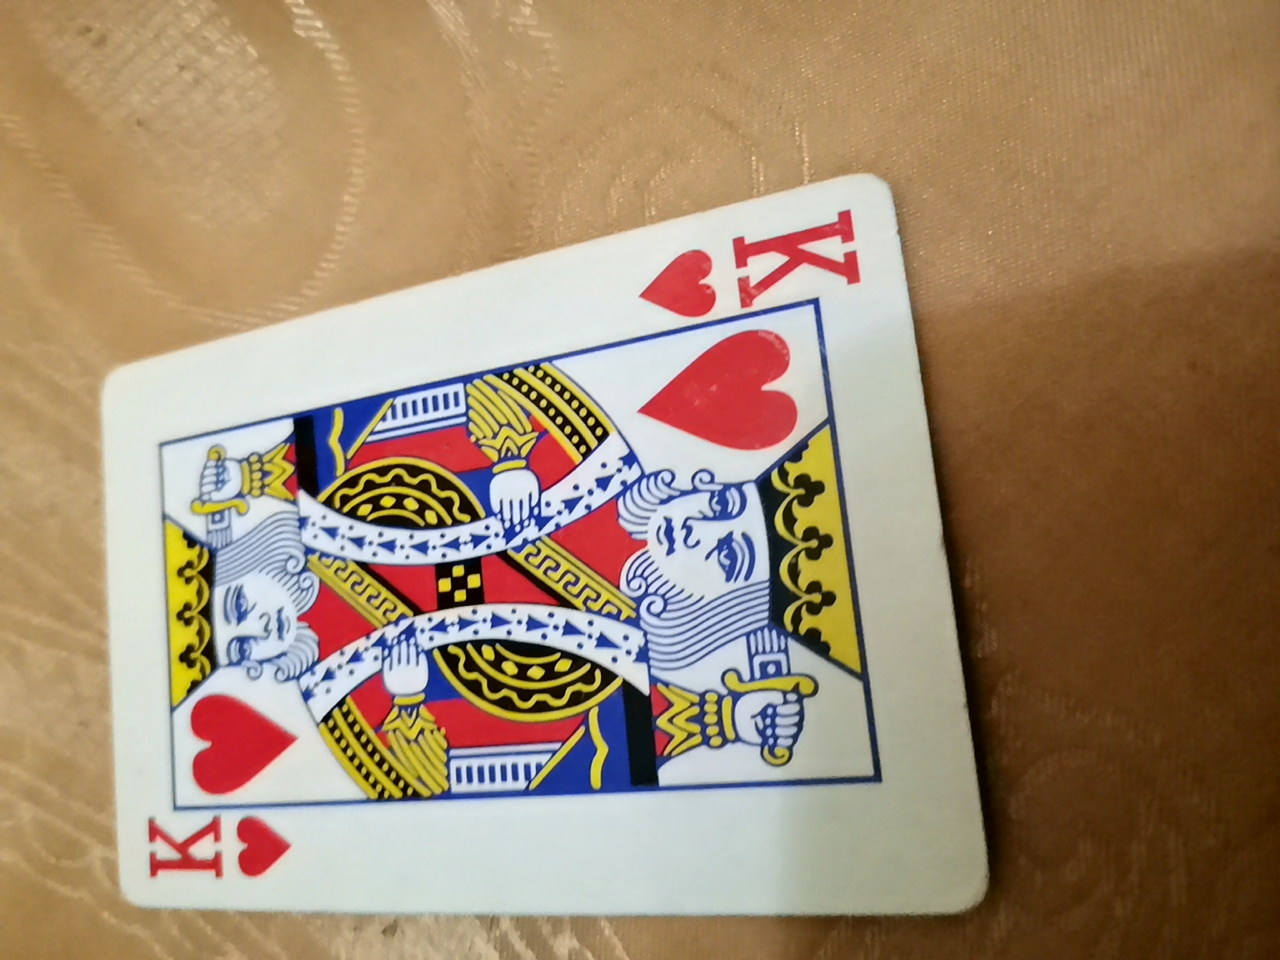hx k: (116, 196, 964, 913)
